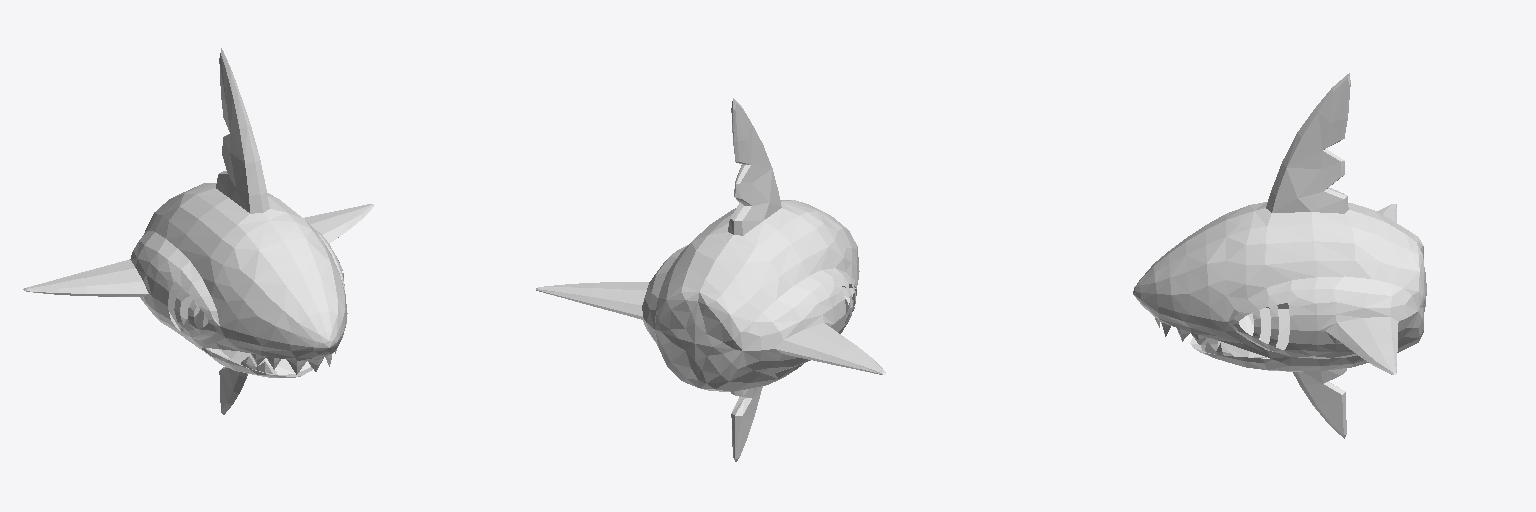
The model's file is Sharpedo.obj.
The picture shows the model from 3 angles: view 1: azimuth 30°, elevation 25°; view 2: azimuth 150°, elevation 25°; view 3: azimuth 270°, elevation 25°; orthographic projection.
Parts seen in each view (by area): view 1: polygon2, polygon3, polygon4; view 2: polygon2; view 3: polygon2, polygon4, polygon3.
Boxes of the visible parts, box(x1,y1,x2,y2) form: polygon2: box(23, 48, 373, 414); polygon3: box(206, 348, 312, 376); polygon4: box(168, 282, 207, 330); polygon2: box(536, 98, 885, 461); polygon2: box(1133, 73, 1426, 438); polygon4: box(1239, 303, 1289, 349); polygon3: box(1190, 337, 1269, 358).
Size of the model in its own units: 20.81 by 20.81 by 15.14.